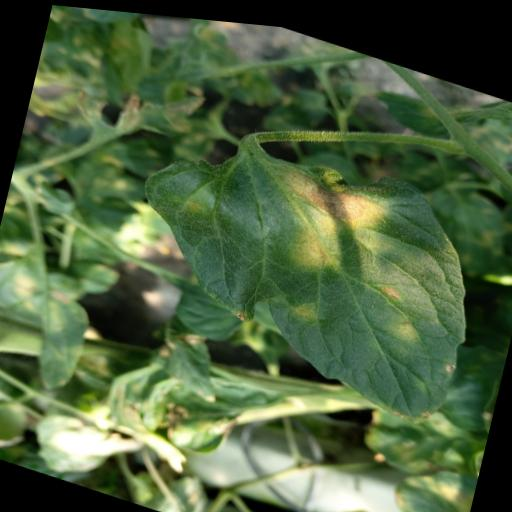Leaf Mold: (116, 94, 498, 428)
